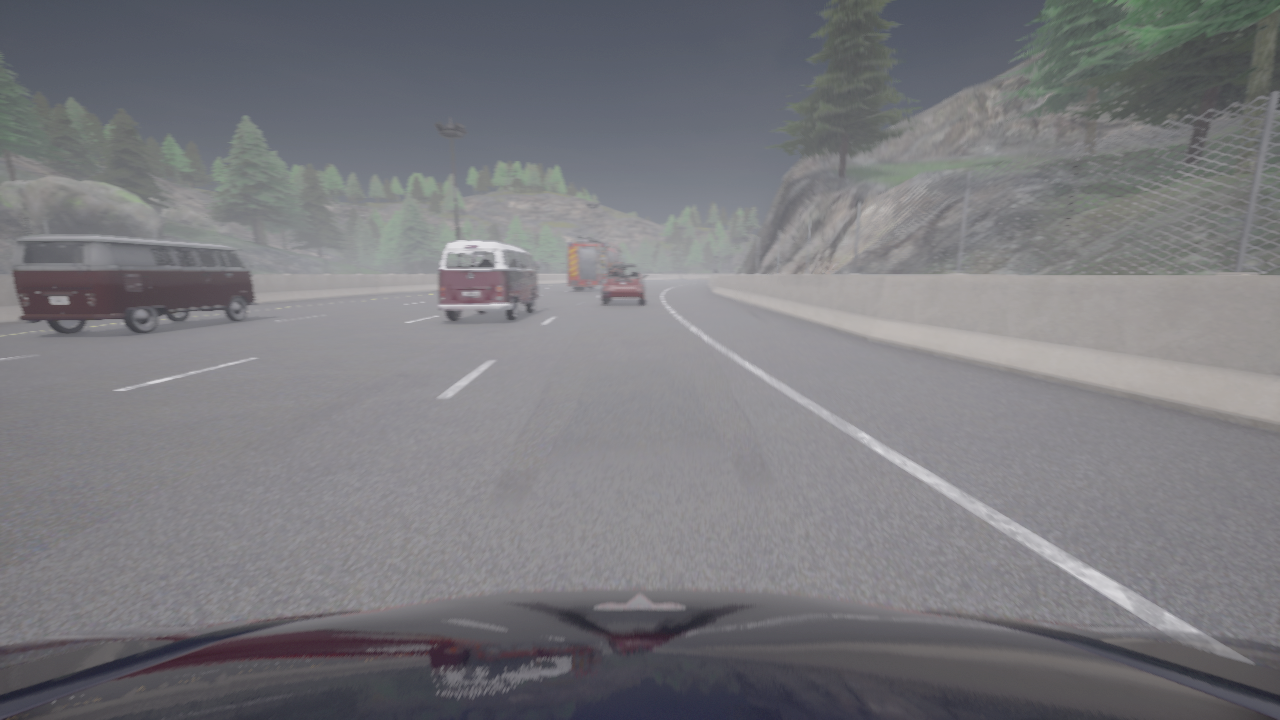cyclist: (0, 588, 1279, 719), (11, 235, 258, 333), (438, 240, 539, 320), (568, 235, 625, 290), (601, 264, 646, 304)
